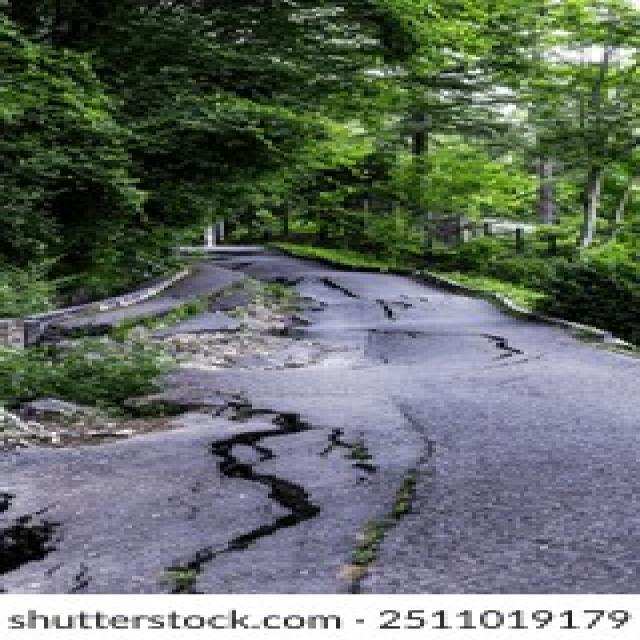road collapse: (40, 206, 640, 594)
